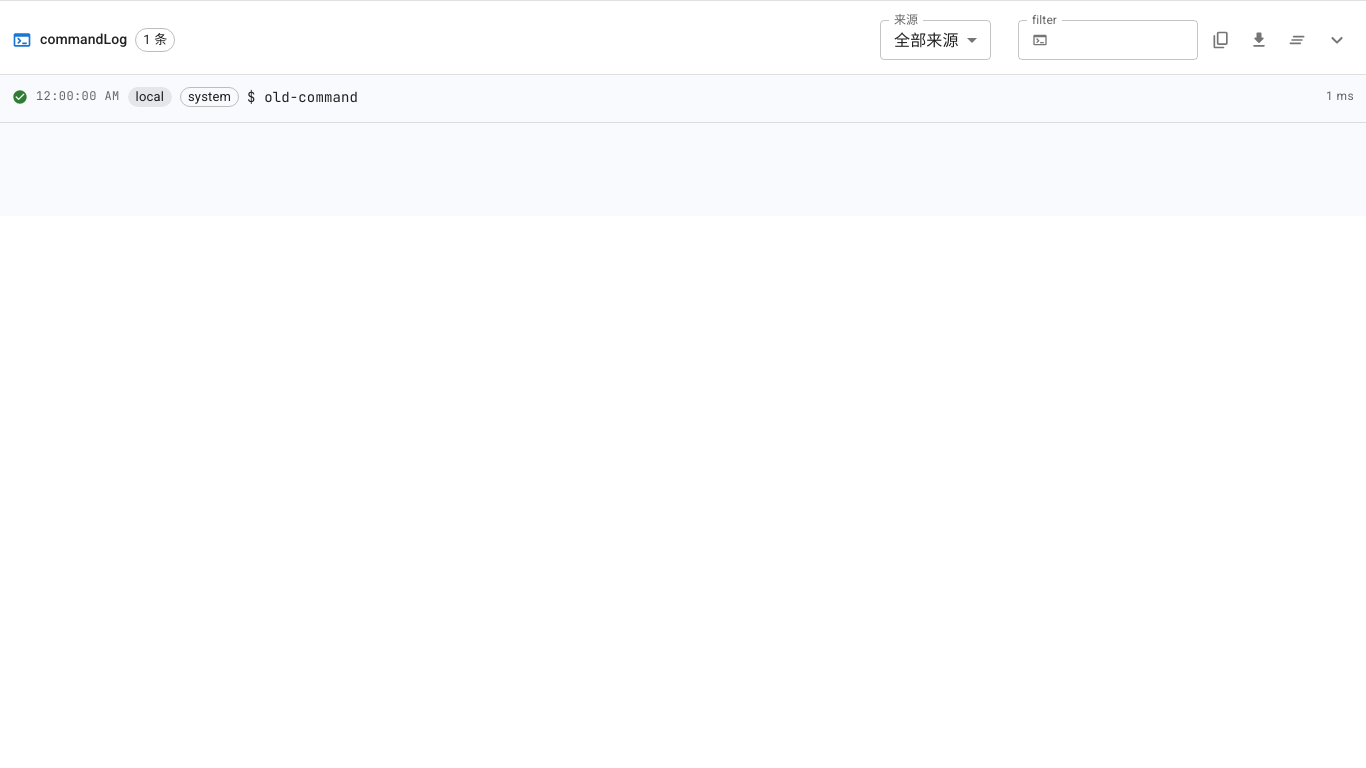
Test: command details › retains new audit events arriving before a clear response and prevents duplicate clearing
Step 1. Click the button named "永久清空" → (1297,40), box [1282,25,1312,55]
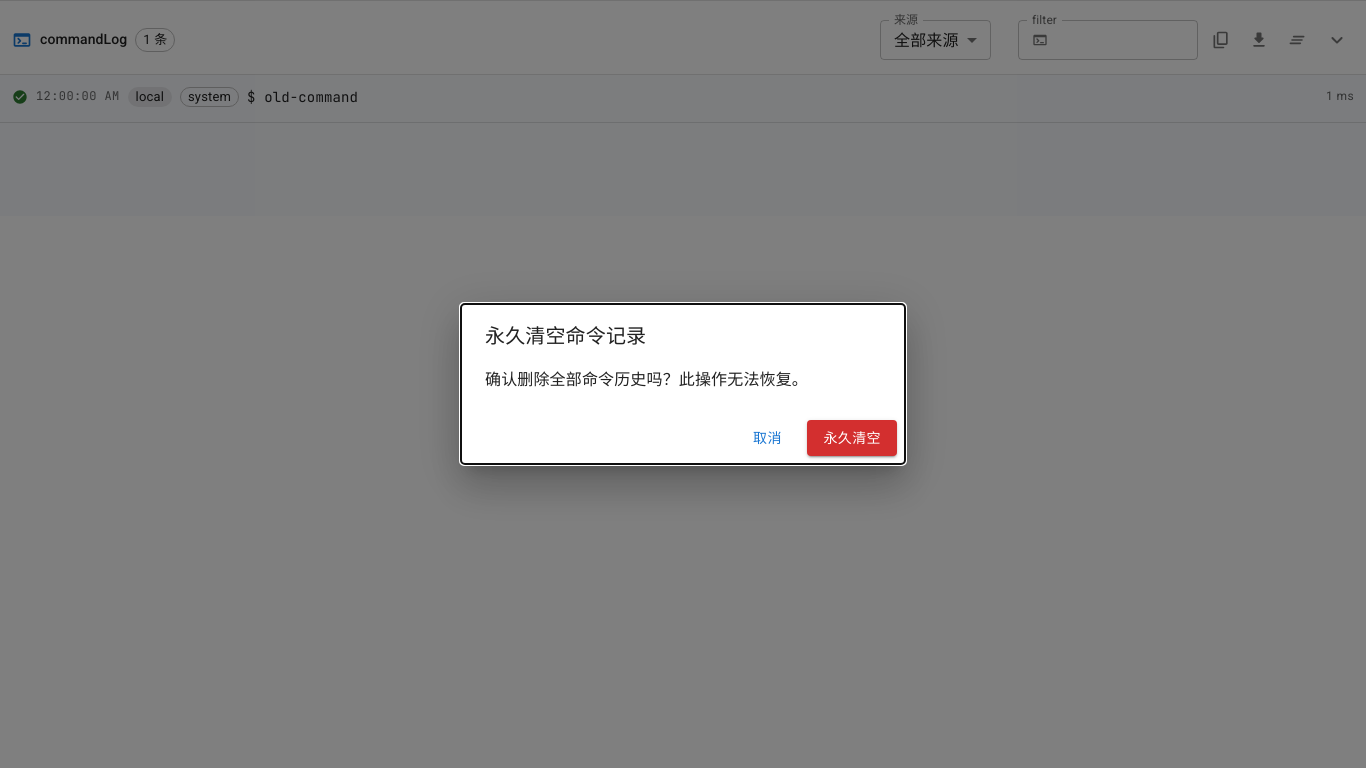
Step 2. Click the button "永久清空" → (852,438), box [807,420,897,456]
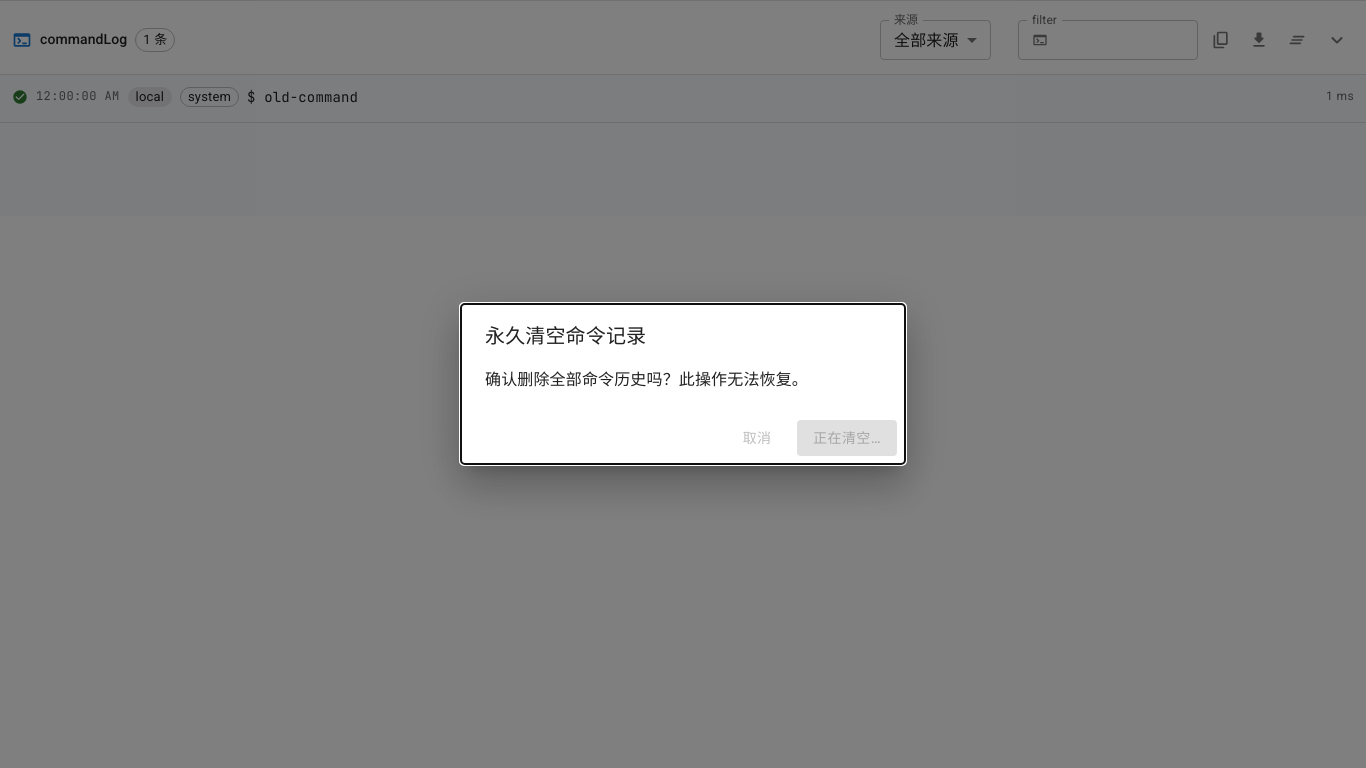
Step 3. Click the button named "永久清空" → (847,438), box [797,420,897,456]
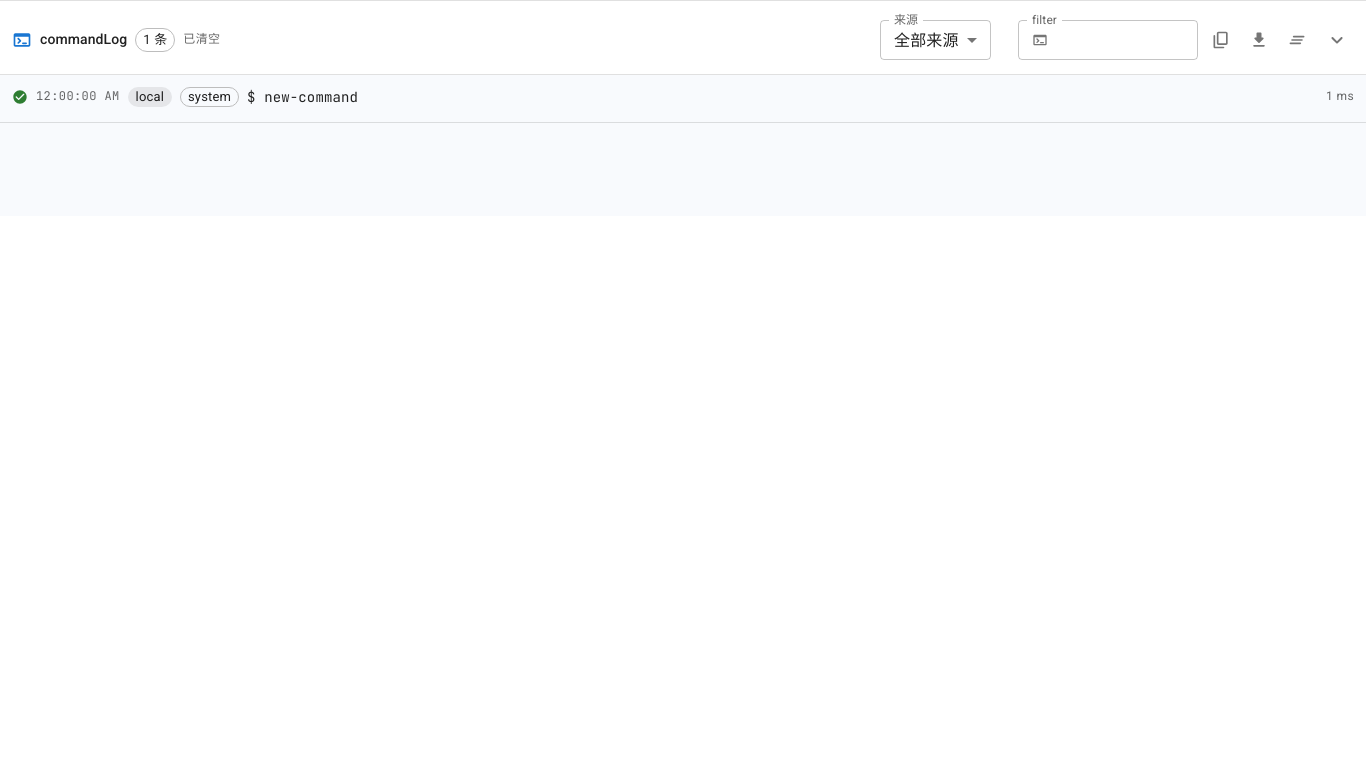
Now the text "$ new-command" is shown, box [247,88,358,106]
